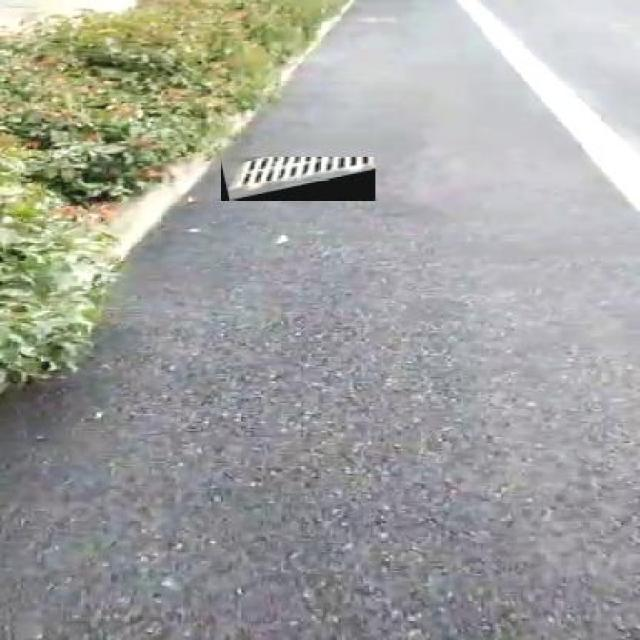Manhole: (220, 157, 376, 200)
